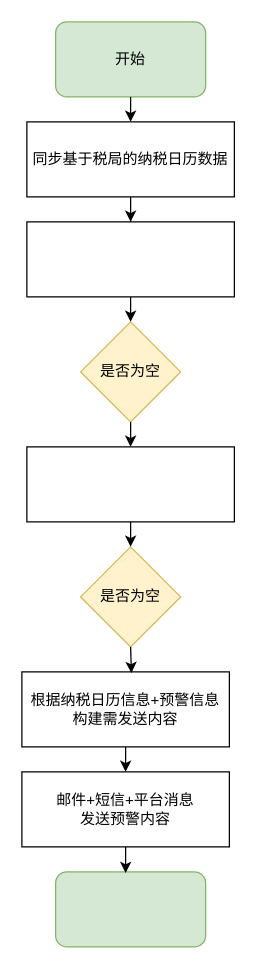
Some shapes in this 256 by 969 pixel diagram are drawn without their labels. Each missing label, with the box of its shape:
FeignClient拉取 申报+缴款状态，保留非申报成功+非缴款成功的数据: (26, 446, 234, 522)
结束: (54, 871, 206, 947)
获取今天要提醒的 纳税日历数据: (26, 221, 234, 297)
